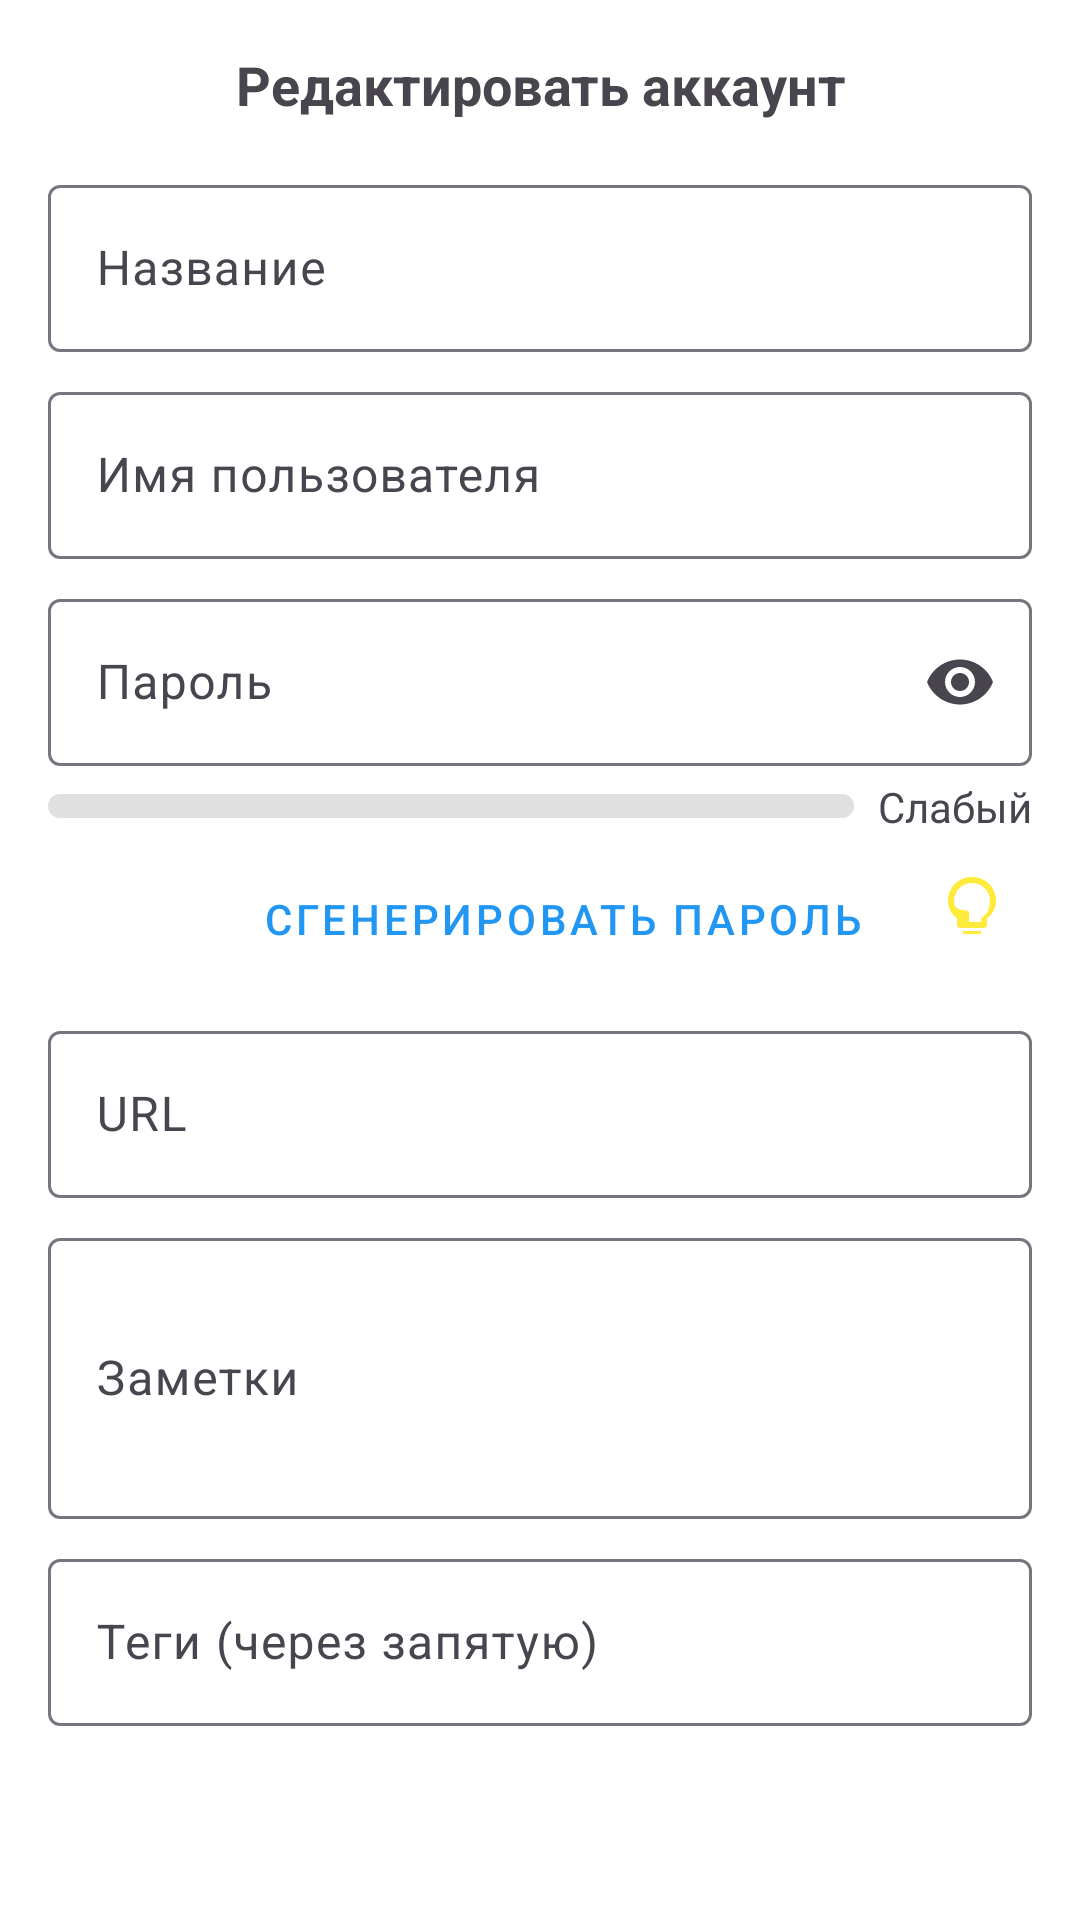

Where to tap for icons on this 1080*1920 app screen, as point (x, y):
Рекомендации по паролю: point (972, 905)
